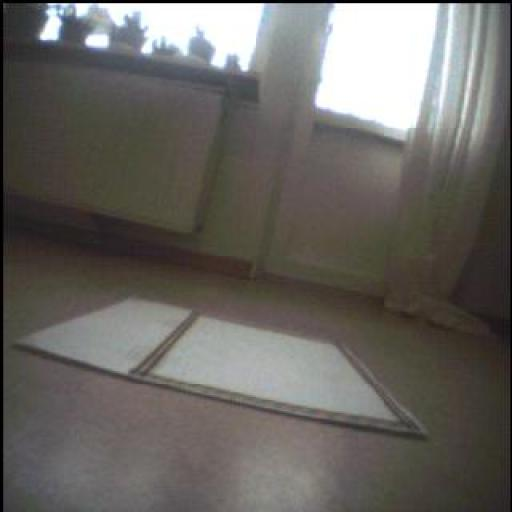Pad: (19, 300, 427, 438)
